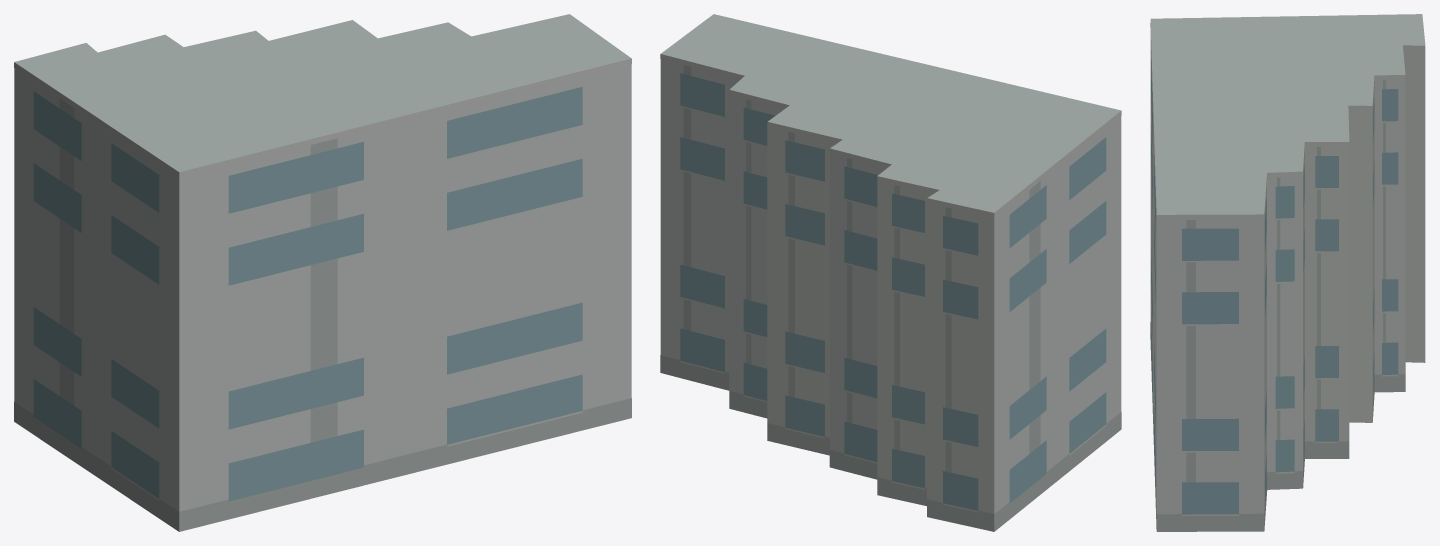
Rendered from survey-upis-32802908.glb.
The picture shows the model from 3 angles, left to right: view 1: azimuth 30°, elevation 25°; view 2: azimuth 150°, elevation 25°; view 3: azimuth 270°, elevation 25°; orthographic projection. The views are drawn at different scales.
Parts seen in each view (by area): view 1: survey-upis-32802908.tmp; view 2: survey-upis-32802908.tmp; view 3: survey-upis-32802908.tmp.
Boxes of the visible parts, x1=… form: survey-upis-32802908.tmp: x1=14, y1=14, x2=631, y2=531; survey-upis-32802908.tmp: x1=660, y1=14, x2=1121, y2=531; survey-upis-32802908.tmp: x1=1150, y1=14, x2=1425, y2=531.
Size of the model in its own units: 20.53 by 15.1 by 11.88.
